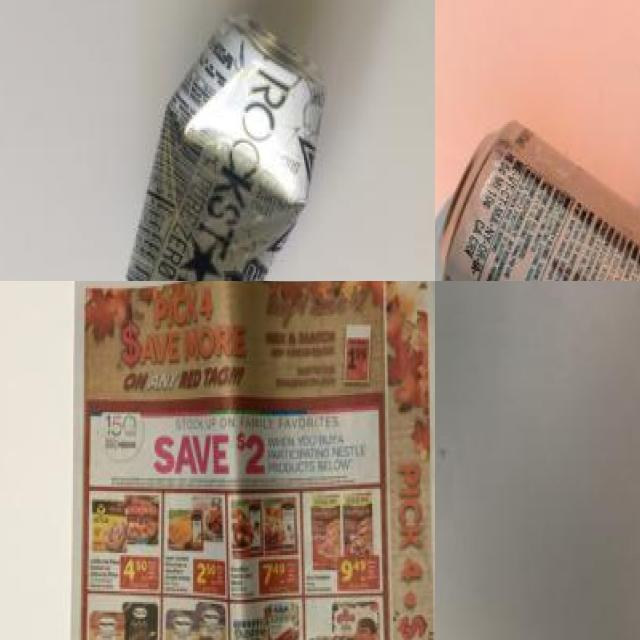compost: (435, 362, 502, 640)
paper: (57, 281, 435, 640)
plastic: (132, 4, 328, 281), (435, 98, 640, 281)
